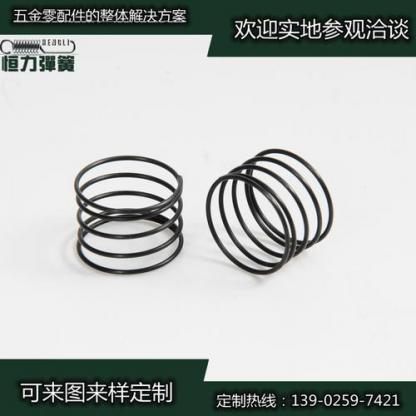FOD: (203, 144, 336, 280), (71, 153, 189, 278)
